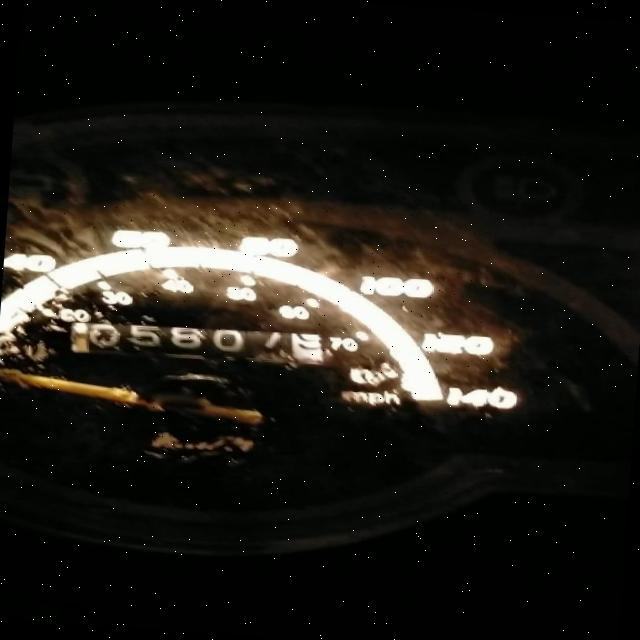odometer: (67, 314, 329, 368)
